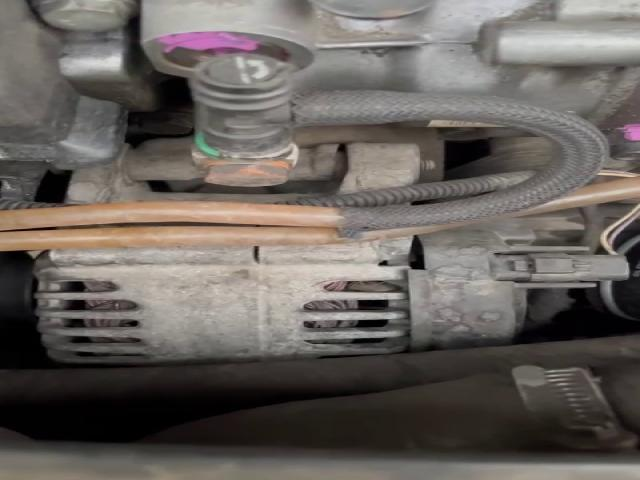alternator: (35, 237, 411, 364)
high_pressure_pump: (141, 0, 640, 185)
